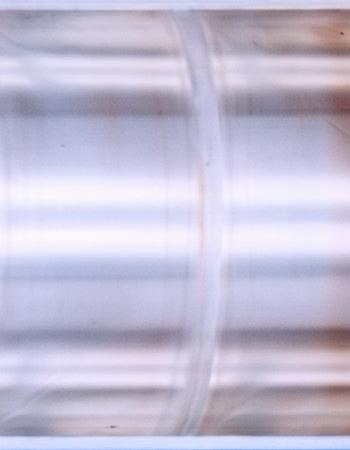soldas: (139, 4, 276, 435)
